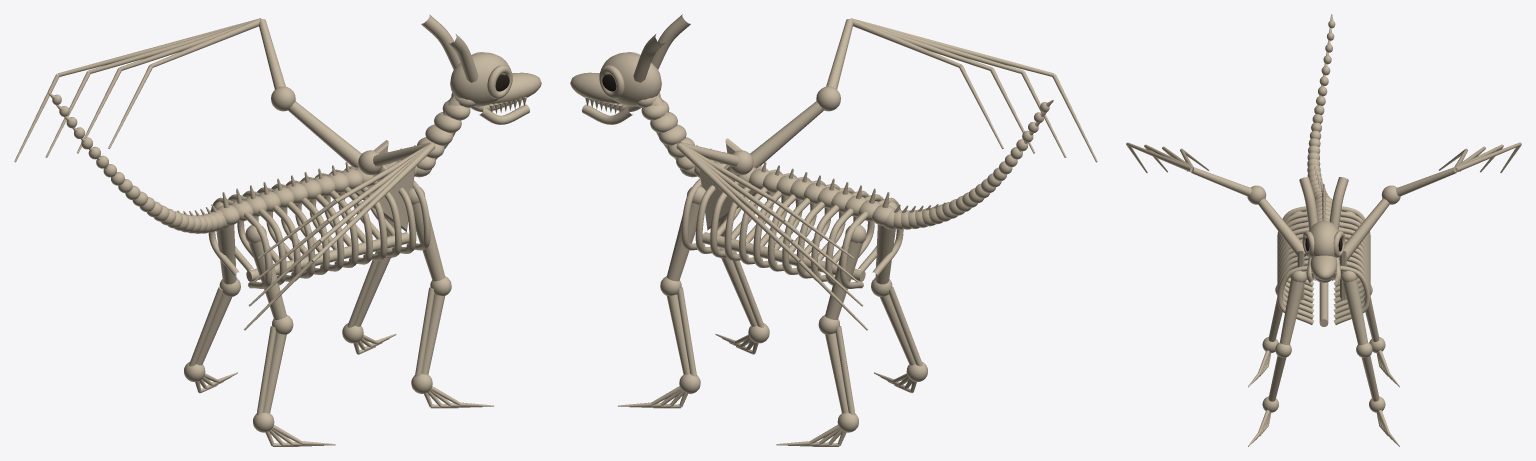
File: winged-skeleton.glb
The picture shows the model from 3 angles, left to right: view 1: azimuth 30°, elevation 25°; view 2: azimuth 150°, elevation 25°; view 3: azimuth 270°, elevation 25°; orthographic projection. The views are drawn at different scales.
Parts seen in each view (by area): view 1: ribcage, right-leg, left-wing, right-wing, skull, left-leg, spine, tail, neck; view 2: ribcage, left-leg, right-wing, left-wing, skull, right-leg, spine, tail, neck; view 3: ribcage, skull, left-leg, right-leg, left-wing, right-wing, tail, spine.
Part boxes in pixels (bbox=[...]): ribcage: bbox=[208, 166, 430, 288]; right-leg: bbox=[245, 187, 493, 446]; left-wing: bbox=[14, 18, 388, 208]; right-wing: bbox=[244, 142, 435, 330]; skull: bbox=[421, 14, 541, 124]; left-leg: bbox=[184, 201, 396, 393]; spine: bbox=[216, 145, 431, 225]; tail: bbox=[48, 92, 228, 233]; neck: bbox=[416, 92, 475, 170]; ribcage: bbox=[681, 168, 903, 288]; left-leg: bbox=[618, 186, 866, 446]; right-wing: bbox=[725, 18, 1097, 208]; left-wing: bbox=[676, 142, 867, 330]; skull: bbox=[570, 14, 690, 124]; right-leg: bbox=[715, 201, 927, 393]; spine: bbox=[680, 145, 895, 225]; tail: bbox=[883, 99, 1053, 229]; neck: bbox=[636, 92, 695, 170]; ribcage: bbox=[1277, 206, 1370, 326]; skull: bbox=[1299, 177, 1348, 283]; left-leg: bbox=[1341, 211, 1399, 446]; right-leg: bbox=[1248, 211, 1306, 446]; left-wing: bbox=[1340, 142, 1521, 300]; right-wing: bbox=[1126, 142, 1306, 300]; tail: bbox=[1307, 14, 1335, 199]; spine: bbox=[1314, 184, 1333, 282].
Bounding box in the file's own units: 6.78 × 4.91 × 6.17.
